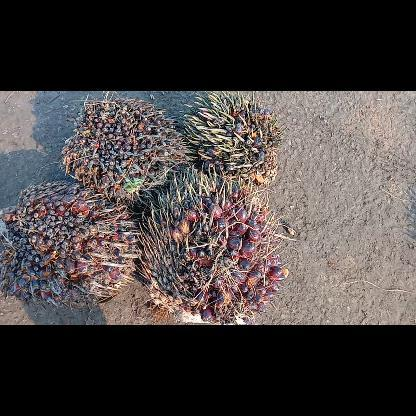TBS abnormal: (0, 176, 143, 309), (61, 96, 196, 204), (180, 90, 284, 188)
TBS masak: (134, 166, 288, 324)
